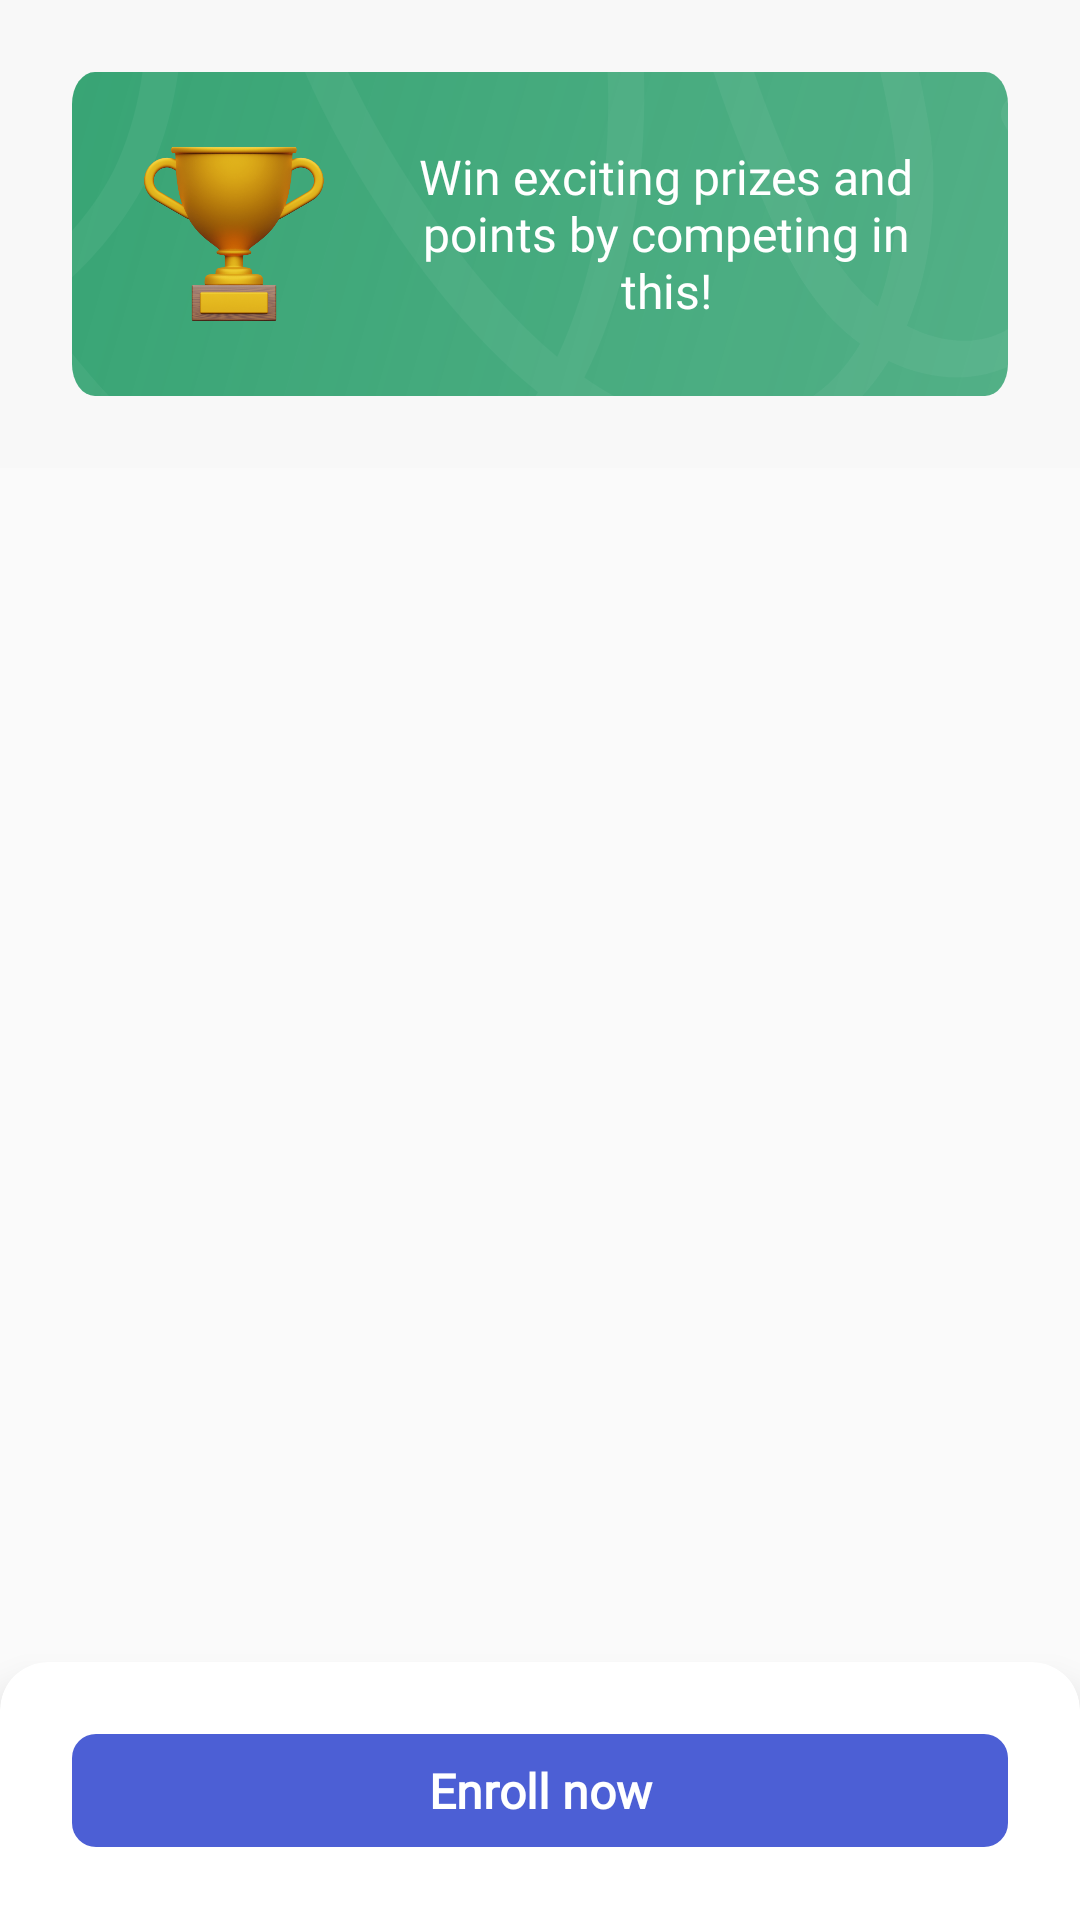

Screen size 1080*1920. Icon name, then its box in pixels as (x1, y1, x2, y2):
trophy: (144, 147, 324, 321)
